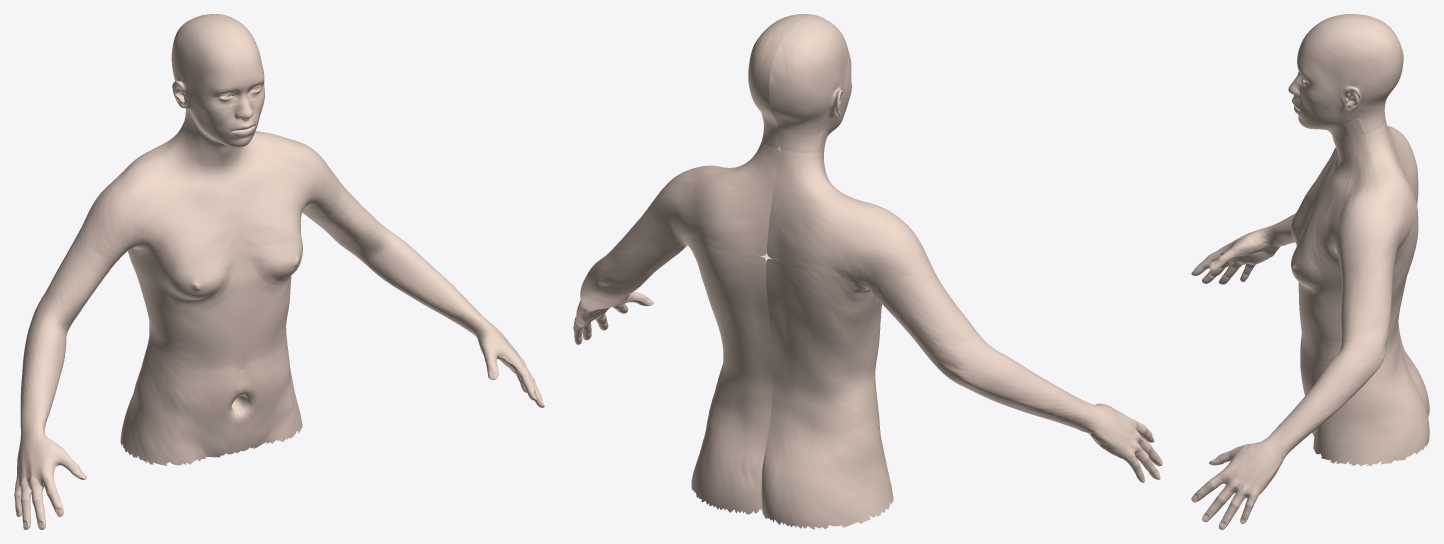
3 views of the same model, side by side, from view 1: azimuth 30°, elevation 25°; view 2: azimuth 150°, elevation 25°; view 3: azimuth 270°, elevation 25° (orthographic). The views are drawn at different scales.
Visible parts, largest first — view 1: Human; view 2: Human; view 3: Human.
Boxes of the visible parts, box(x1,y1,x2,y2) form: Human: box(14, 14, 544, 529); Human: box(573, 14, 1162, 529); Human: box(1191, 14, 1429, 529).
Size of the model in its own units: 1.05 by 0.8124 by 0.4289.
